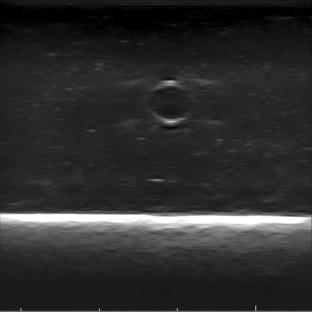vessel: (144, 79, 194, 125)
